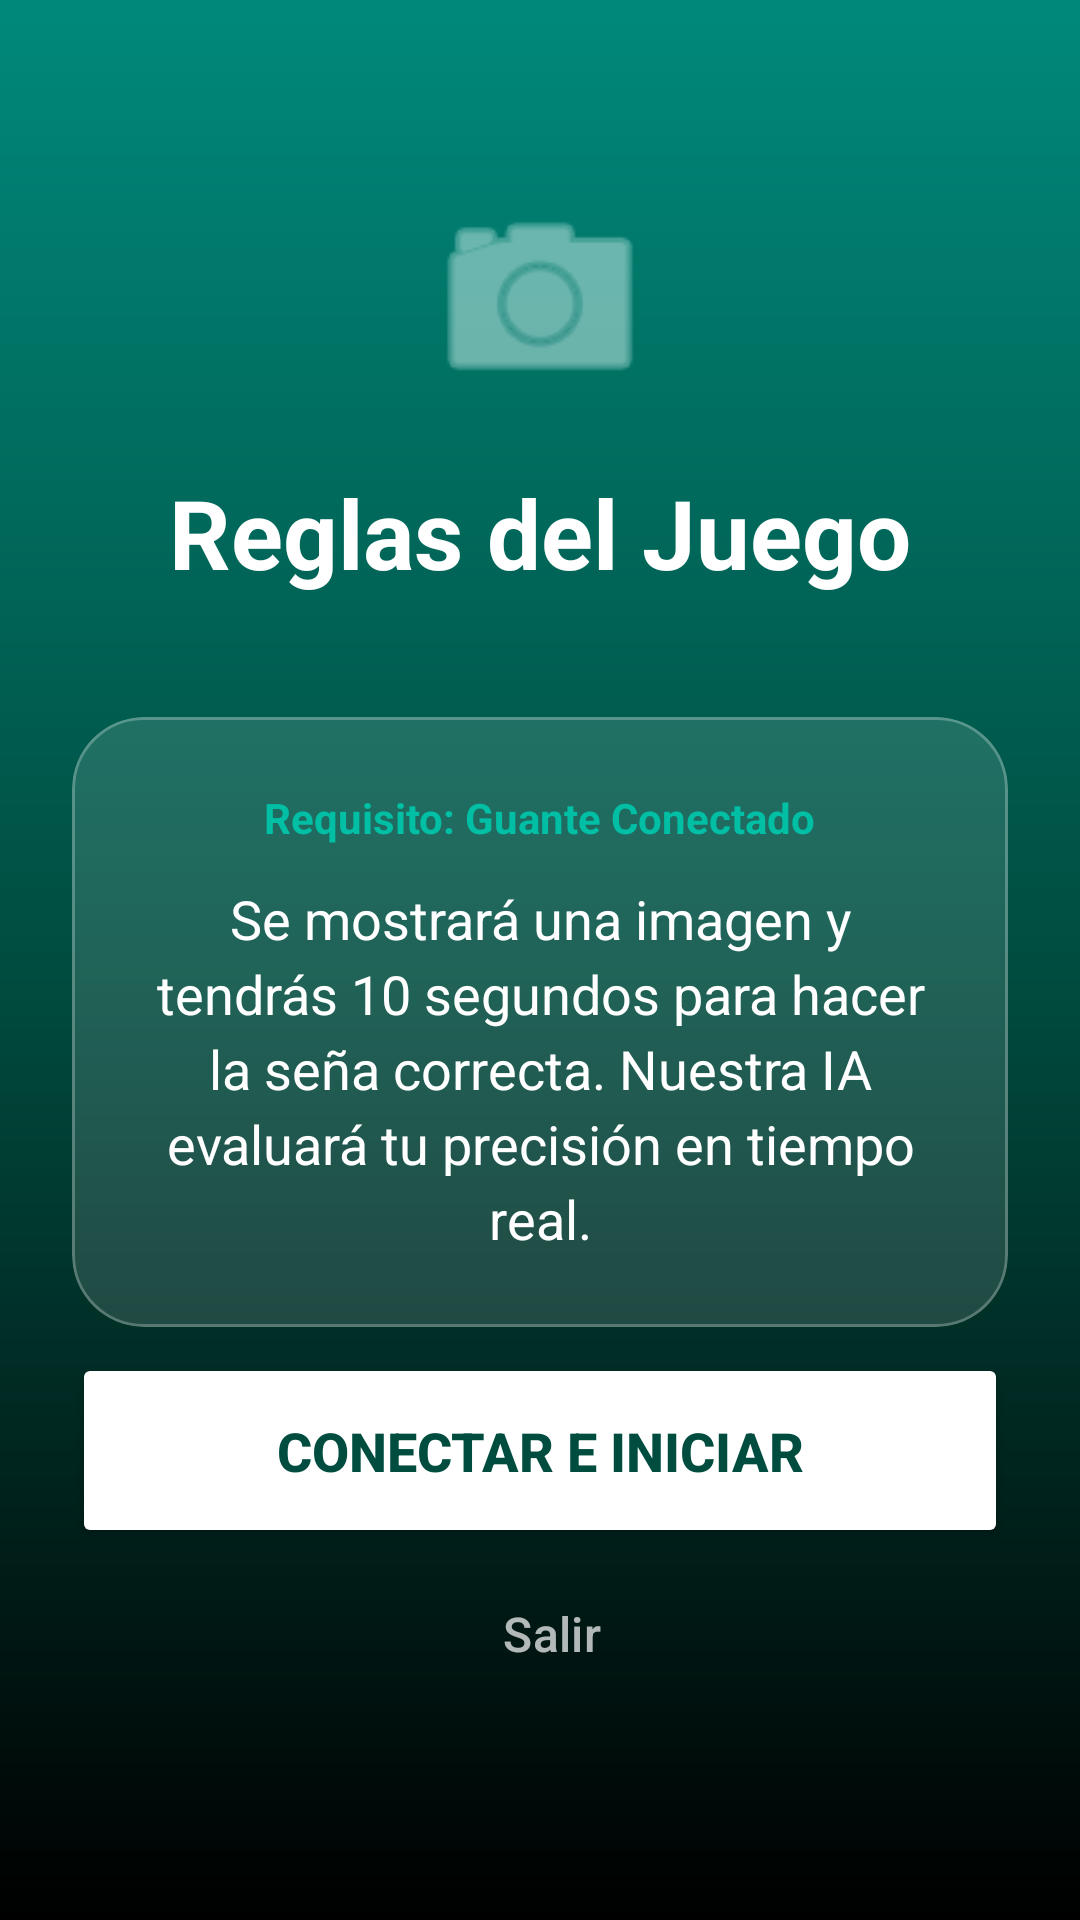

Icon bounding boxes for this 1080 × 1920 phone screenshot, format (x1, y1, x2, y2):
camera: (447, 222, 633, 370)
